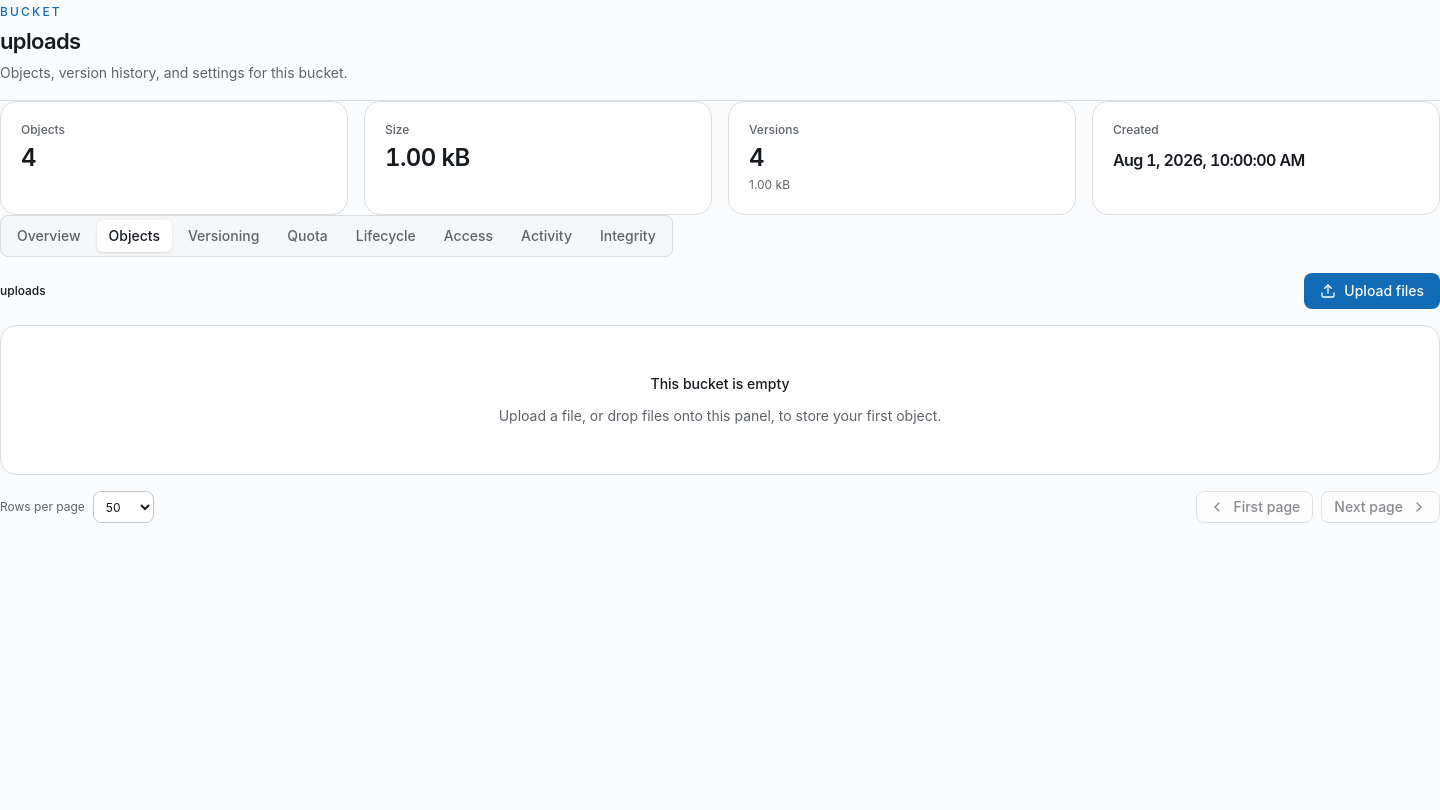
Test: bucket lifecycle rules › seeds the edit form from the rule being edited
This screenshot has width=1440, height=810.
Click the tab "Lifecycle" at [386, 236], box [344,220,428,252]
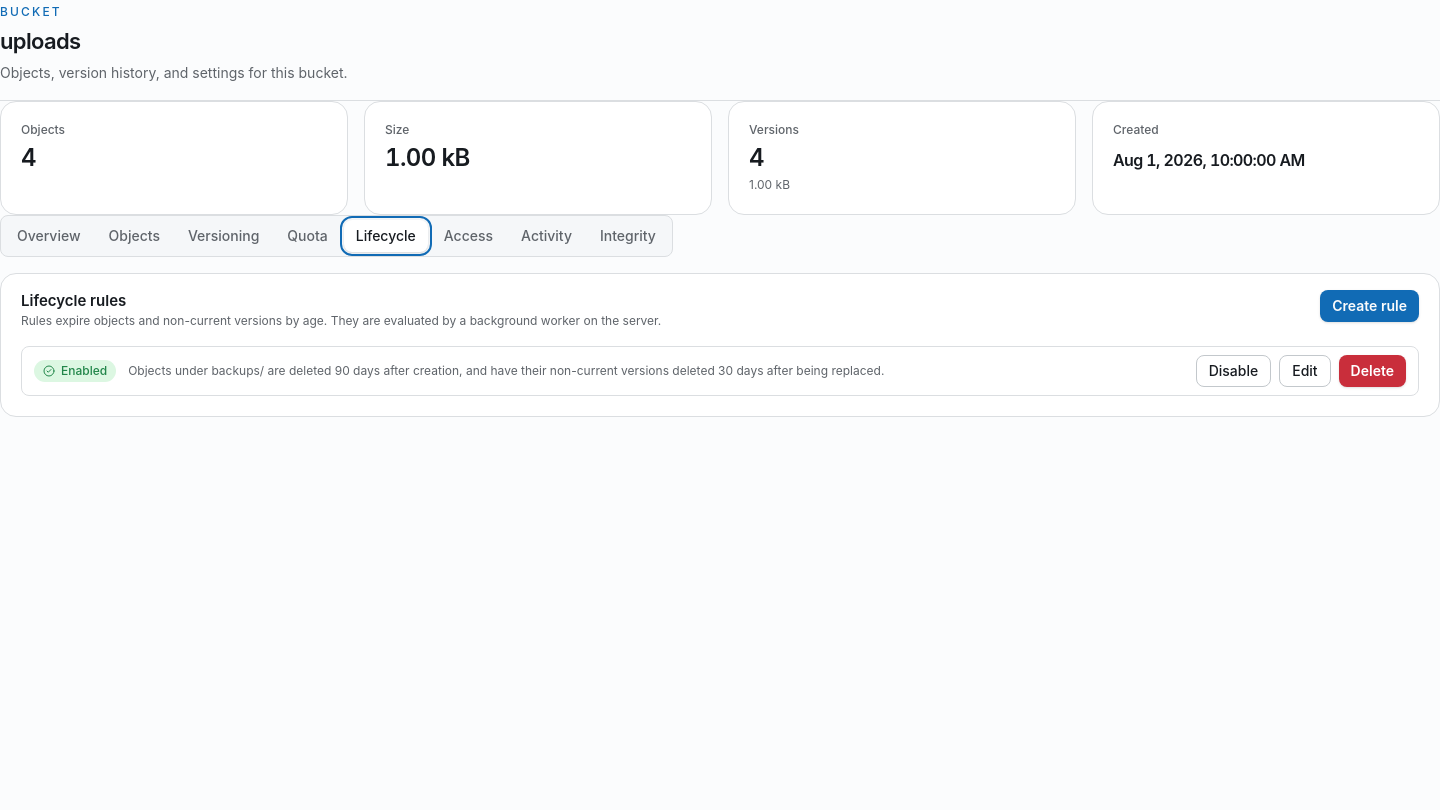
Now the text "deleted 90 days" is shown, box [128,363,884,378]
Click the button with aria-label "edit lifecycle rule backups" at [1305, 371], box [1279,355,1331,387]
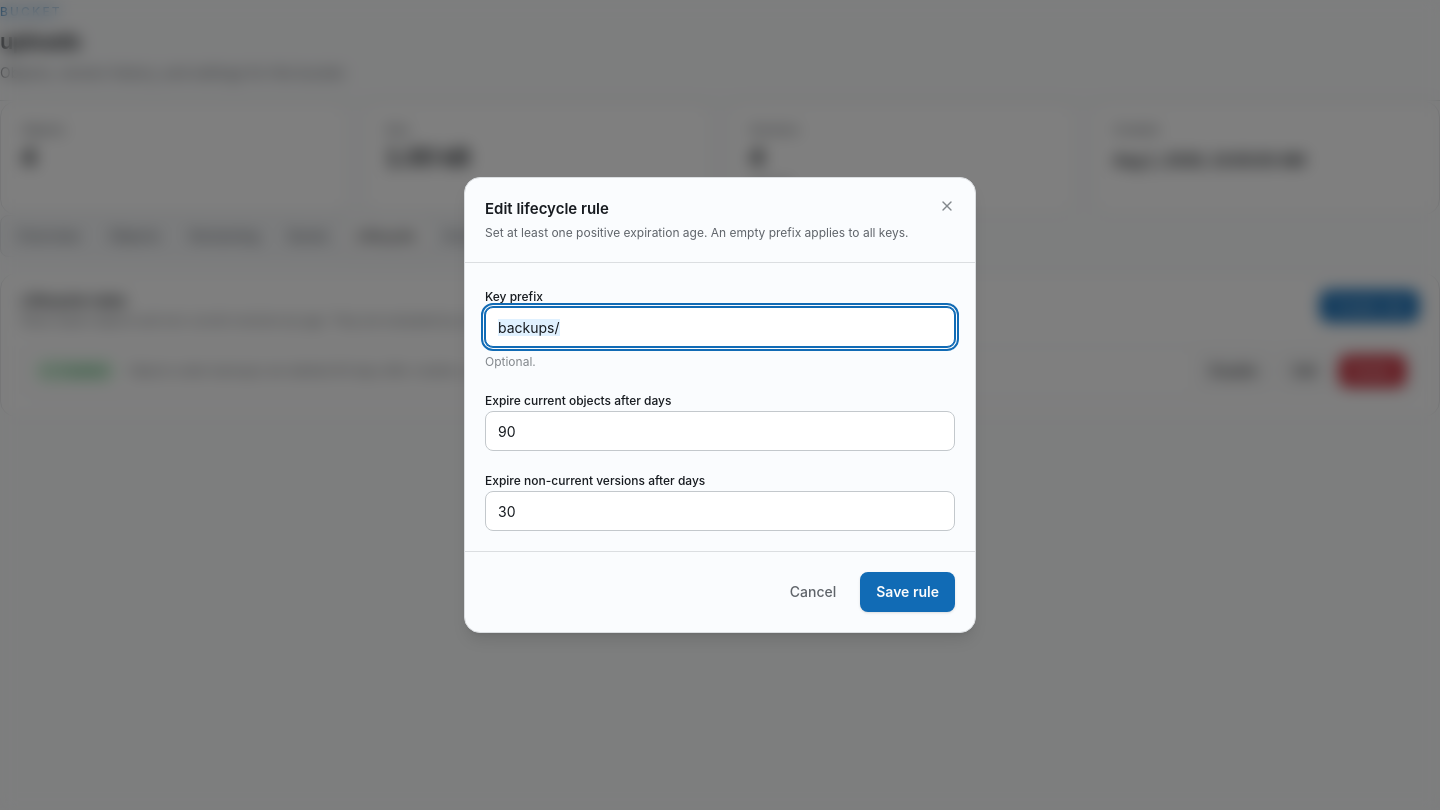
Now the heading "Edit lifecycle rule" is shown, box [485,199,609,218]
Now the field labelled "Key prefix" holds "backups/", box [485,307,955,347]
Now the number field labelled "Expire current objects after days" holds "90", box [485,411,955,451]
